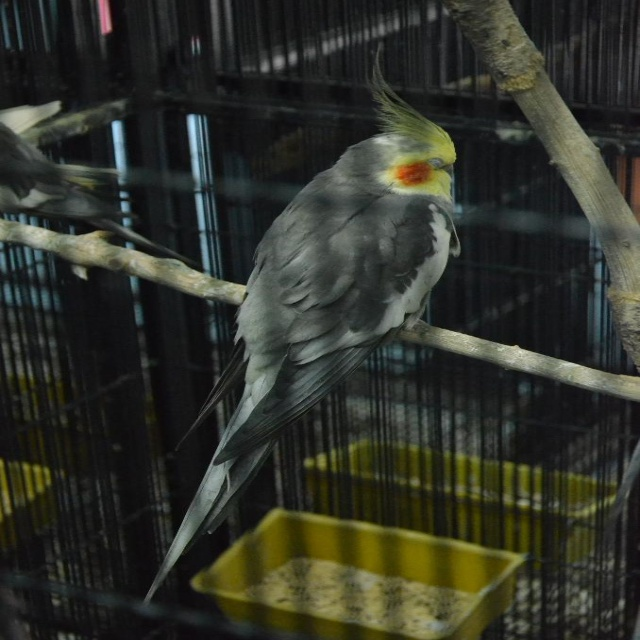Parrot: (141, 42, 461, 614), (1, 117, 201, 271)
